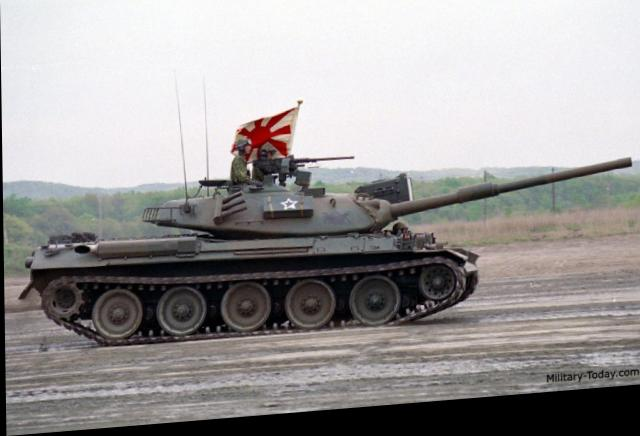other: (230, 140, 258, 183)
tank: (27, 164, 475, 356)
